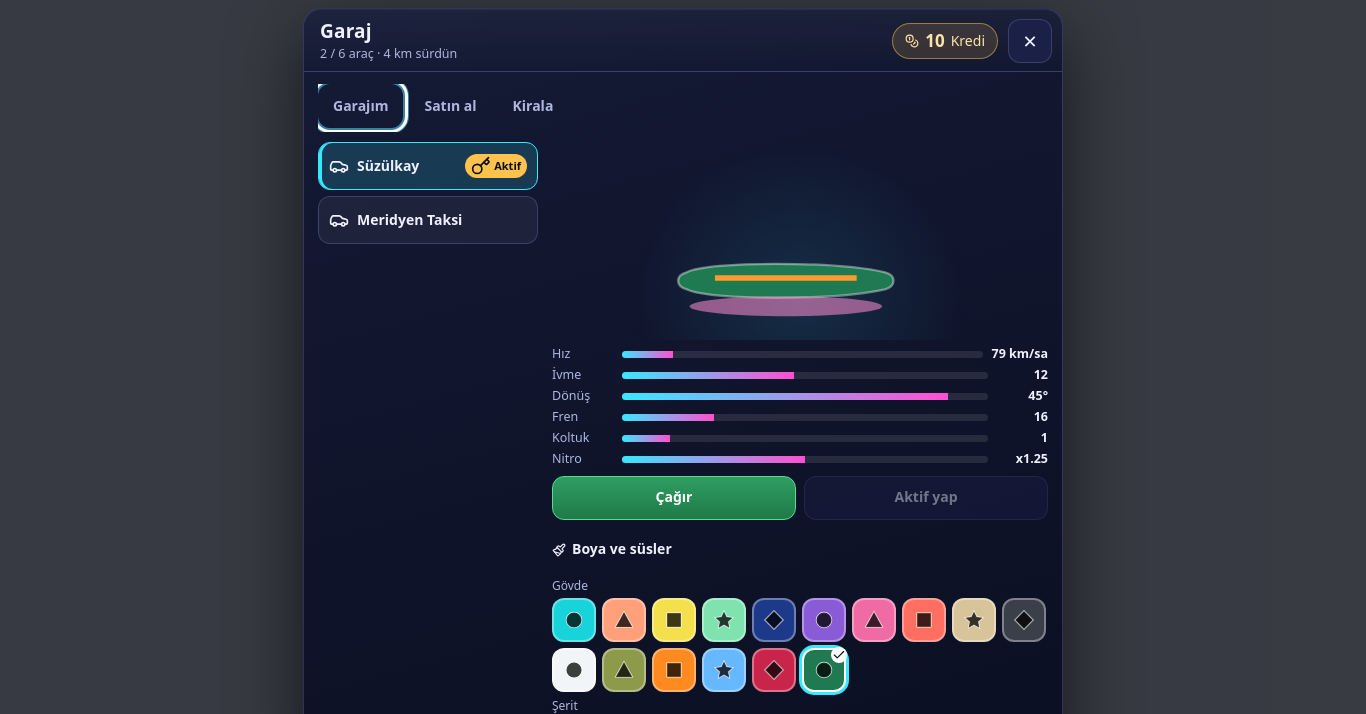
GaragePanel: Satın al ve Kirala › yetersiz Kredi kirayı kapatır
Click the tab with test id "tab-rent" at (533, 106), box [498,84,568,128]
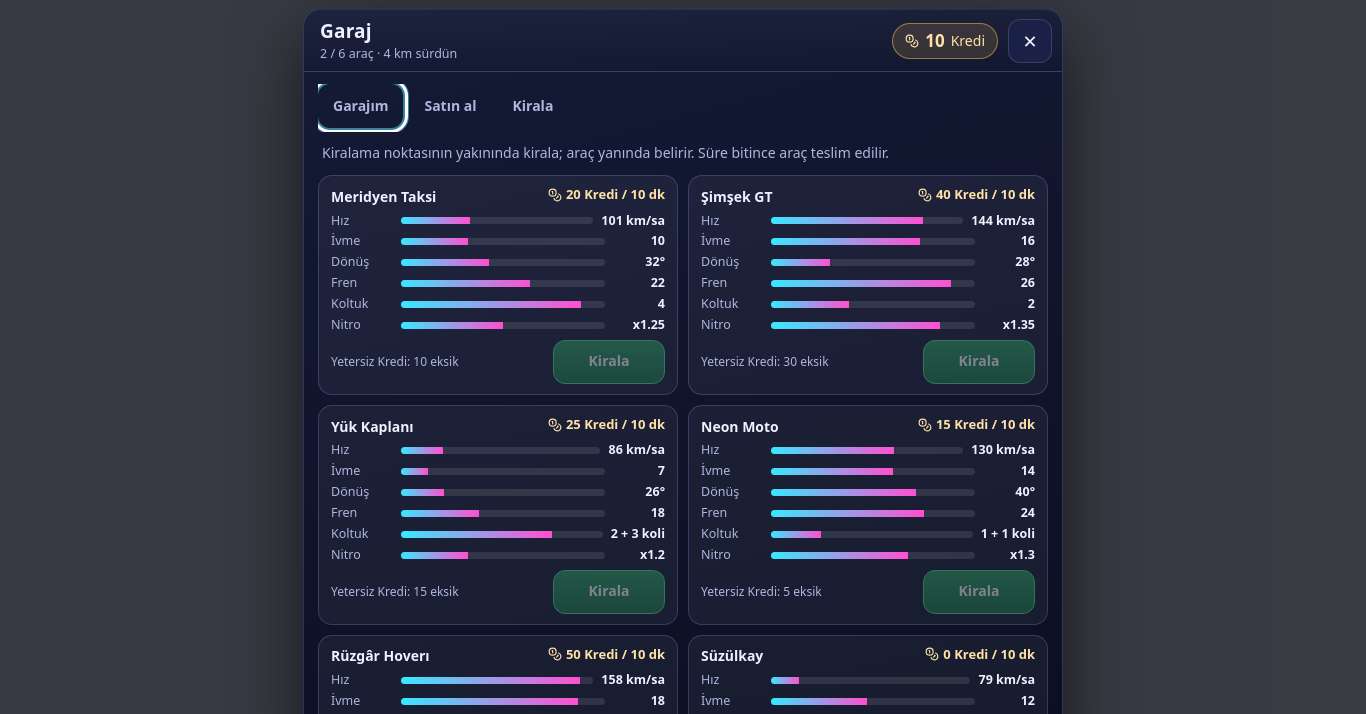
Check: the button with test id "rentbtn-taksi" is disabled, box [553,340,665,384]
Check: the text "Yetersiz Kredi: 10 eksik" is shown, box [331,354,459,370]
